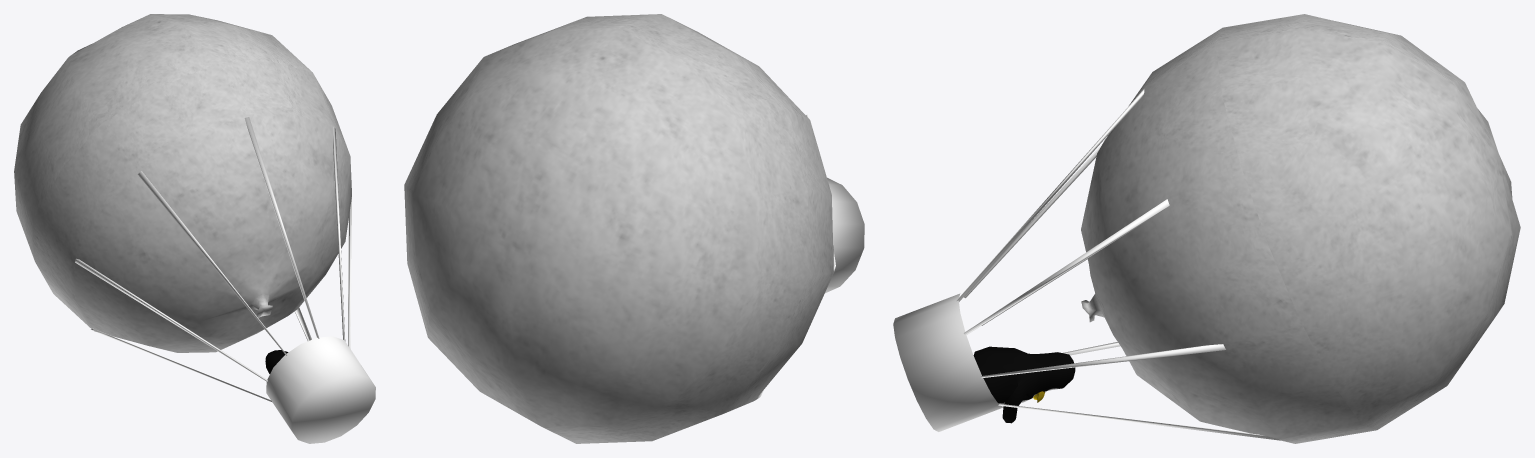
The model's file is Balloon.glb.
3 renders of one model, left to right at view 1: azimuth 30°, elevation 25°; view 2: azimuth 150°, elevation 25°; view 3: azimuth 270°, elevation 25°, orthographic. The views are drawn at different scales.
Visible parts, largest first — view 1: snowroad.jpg__, palmtree.png__; view 2: snowroad.jpg__, palmtree.png__; view 3: snowroad.jpg__, palmtree.png__, tux_body.jpg__.
Boxes of the visible parts, x1,y1,x2,y2 form: snowroad.jpg__: (14, 14, 351, 352); palmtree.png__: (75, 117, 375, 443); snowroad.jpg__: (404, 14, 833, 443); palmtree.png__: (755, 114, 864, 400); snowroad.jpg__: (1081, 14, 1520, 443); palmtree.png__: (893, 89, 1280, 440); tux_body.jpg__: (973, 346, 1075, 423).
Bounding box in the file's own units: 2.33 × 2.33 × 3.33.
Materials: 3 (2 with a texture image).
